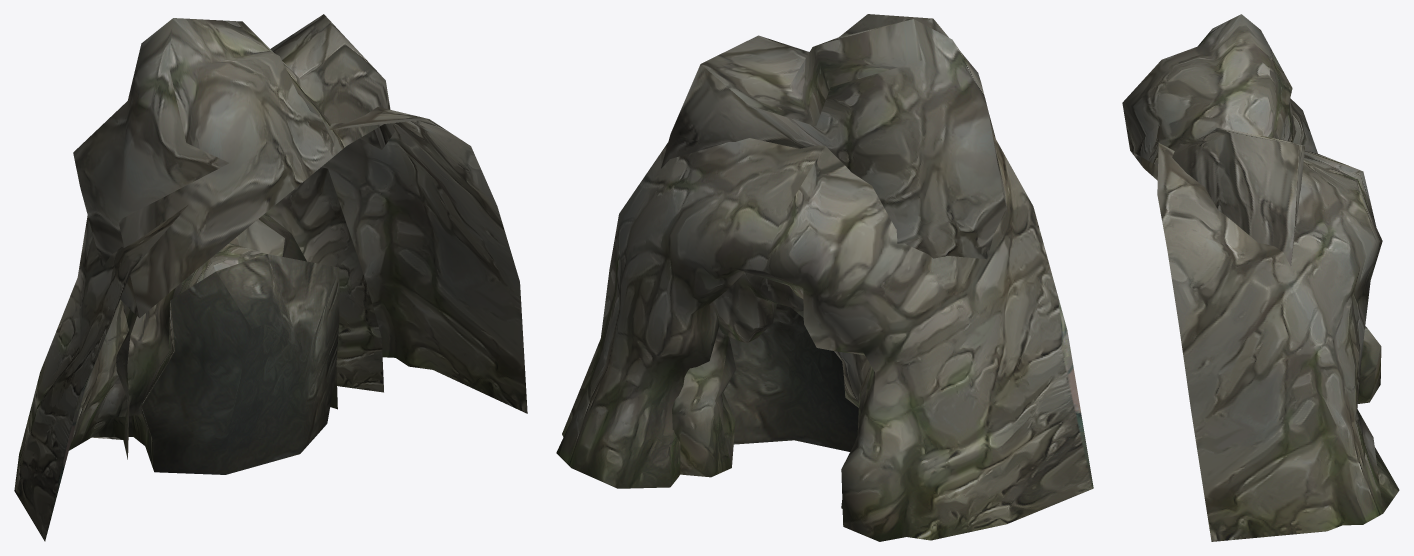
File: DN_CaveGate.FBX
3 views of the same model, side by side, from view 1: azimuth 30°, elevation 25°; view 2: azimuth 150°, elevation 25°; view 3: azimuth 270°, elevation 25° (orthographic). The views are drawn at different scales.
Parts seen in each view (by area): view 1: DN_CaveGate; view 2: DN_CaveGate; view 3: DN_CaveGate.
Part boxes in pixels (x1,y1,x2,y2): DN_CaveGate: (14, 14, 527, 541); DN_CaveGate: (556, 14, 1093, 541); DN_CaveGate: (1122, 14, 1399, 541).
Size of the model in its own units: 782 by 704 by 454.
